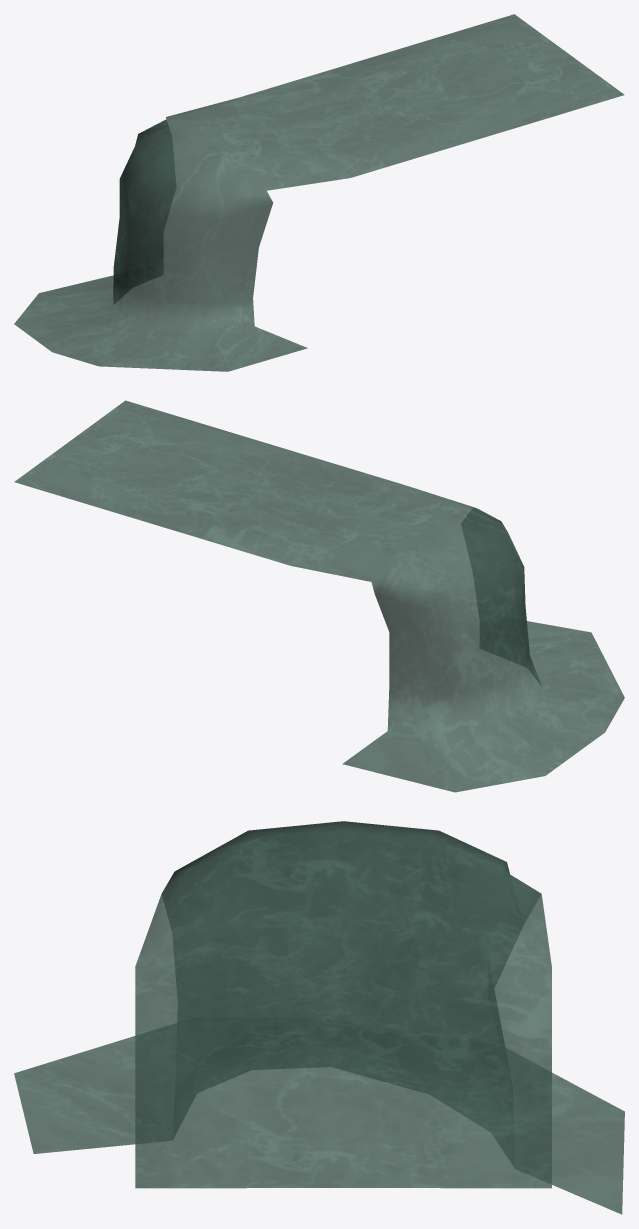
Rendered from Waterfall_Waterfall2.fbx.
3 views of the same model, one above another, from view 1: azimuth 30°, elevation 25°; view 2: azimuth 150°, elevation 25°; view 3: azimuth 270°, elevation 25° (orthographic). The views are drawn at different scales.
Visible parts, largest first — view 1: pCylinder2; view 2: pCylinder2; view 3: pCylinder2.
Part boxes in pixels (x1,y1,x2,y2): pCylinder2: (14,14,624,371); pCylinder2: (14,400,624,792); pCylinder2: (14,821,624,1214).
Bounding box in the file's own units: 35.9 × 12.39 × 19.23.
1 material, 1 textured.
